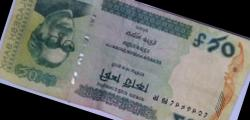20 taka: (17, 0, 243, 118)
